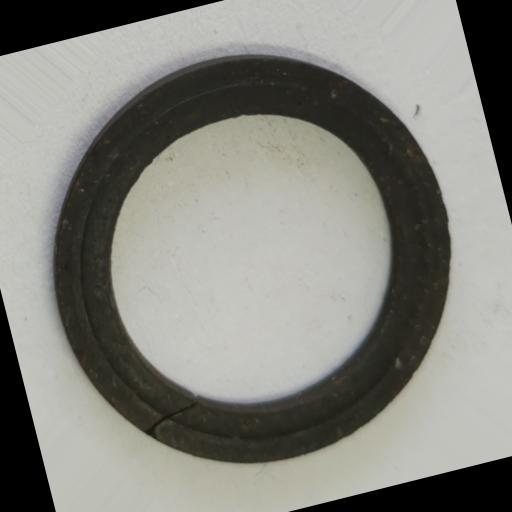defect: (142, 400, 203, 436)
